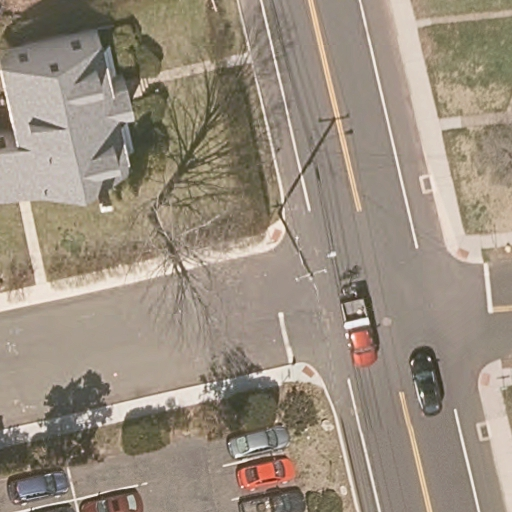DT: (276, 210, 327, 291)
